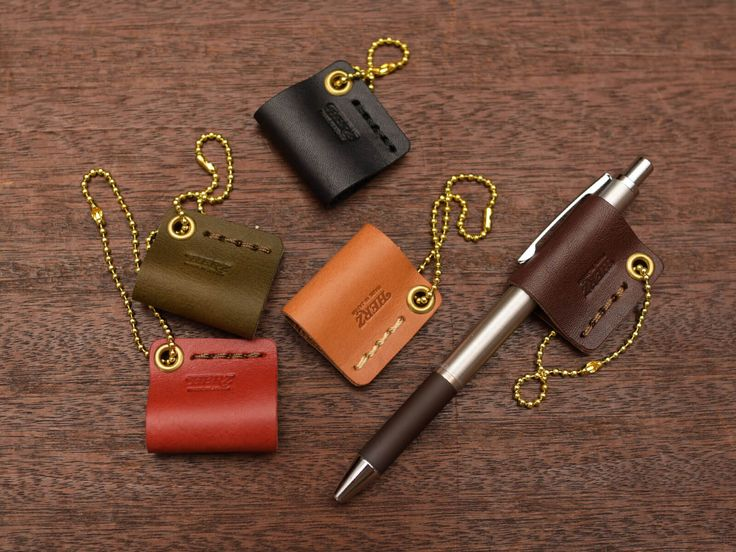cuero: (132, 60, 664, 454)
